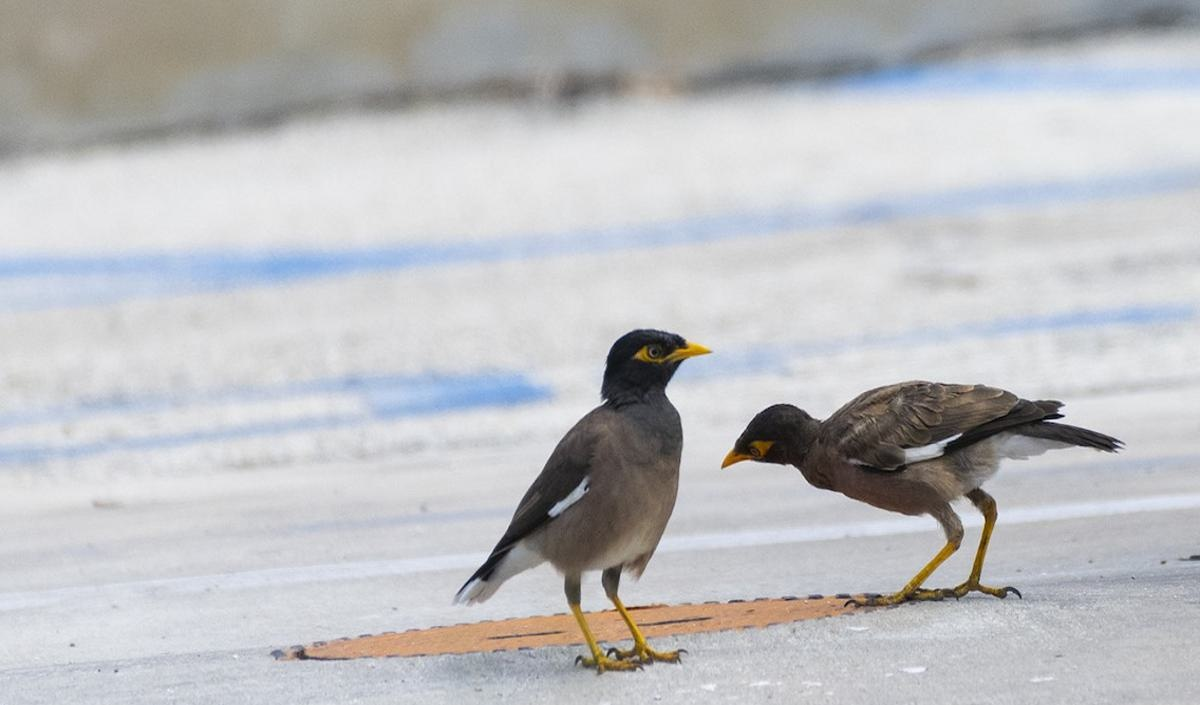myna: (491, 285, 726, 680), (710, 387, 1069, 588)
